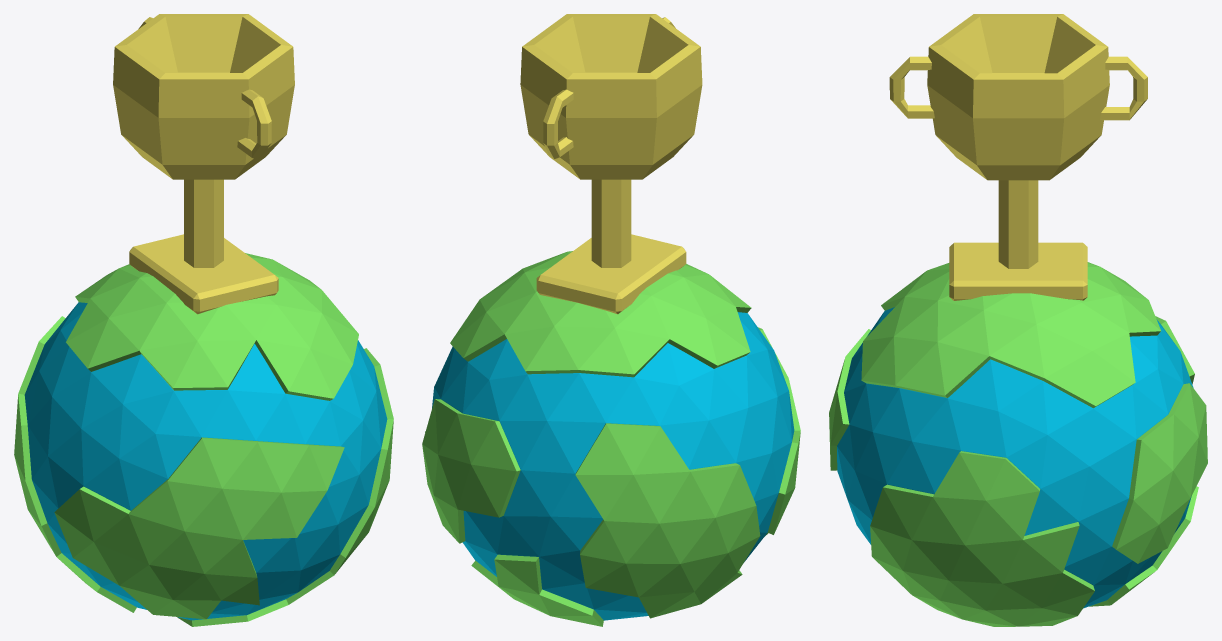
Rendered from tournamentPlanet.glb.
The picture shows the model from 3 angles, left to right: view 1: azimuth 30°, elevation 25°; view 2: azimuth 150°, elevation 25°; view 3: azimuth 270°, elevation 25°; orthographic projection.
Parts seen in each view (by area): view 1: Icosphere, Icosphere.001, Cylinder; view 2: Icosphere, Icosphere.001, Cylinder; view 3: Icosphere, Icosphere.001, Cylinder.
Part boxes in pixels (left/top/right/bottom): Icosphere: left=14, top=253, right=393, bottom=626; Icosphere.001: left=24, top=302, right=387, bottom=620; Cylinder: left=113, top=14, right=294, bottom=314; Icosphere: left=422, top=251, right=800, bottom=626; Icosphere.001: left=432, top=312, right=794, bottom=620; Cylinder: left=520, top=14, right=702, bottom=314; Icosphere: left=829, top=262, right=1207, bottom=626; Icosphere.001: left=837, top=307, right=1193, bottom=608; Cylinder: left=889, top=14, right=1147, bottom=300.
Size of the model in its own units: 2.2 by 3.65 by 2.21.
